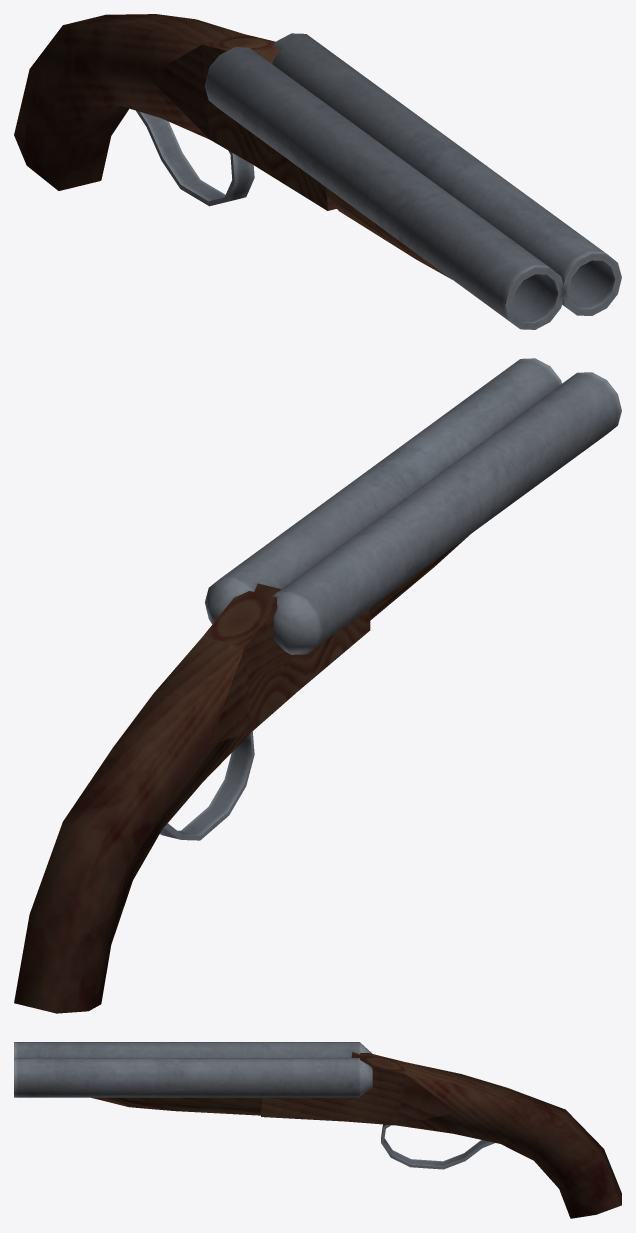
The model's file is SM_Shotgun.fbx.
3 renders of one model, top to bottom at view 1: azimuth 30°, elevation 25°; view 2: azimuth 150°, elevation 25°; view 3: azimuth 270°, elevation 25°, orthographic. The views are drawn at different scales.
Visible parts, largest first — view 1: SM_Shotgun; view 2: SM_Shotgun; view 3: SM_Shotgun.
Part boxes in pixels (box(x1,y1,x2,y2)): SM_Shotgun: box(14, 14, 621, 329); SM_Shotgun: box(14, 358, 621, 1013); SM_Shotgun: box(14, 1042, 621, 1218).
Size of the model in its own units: 0.0726 by 0.1664 by 0.5696.
